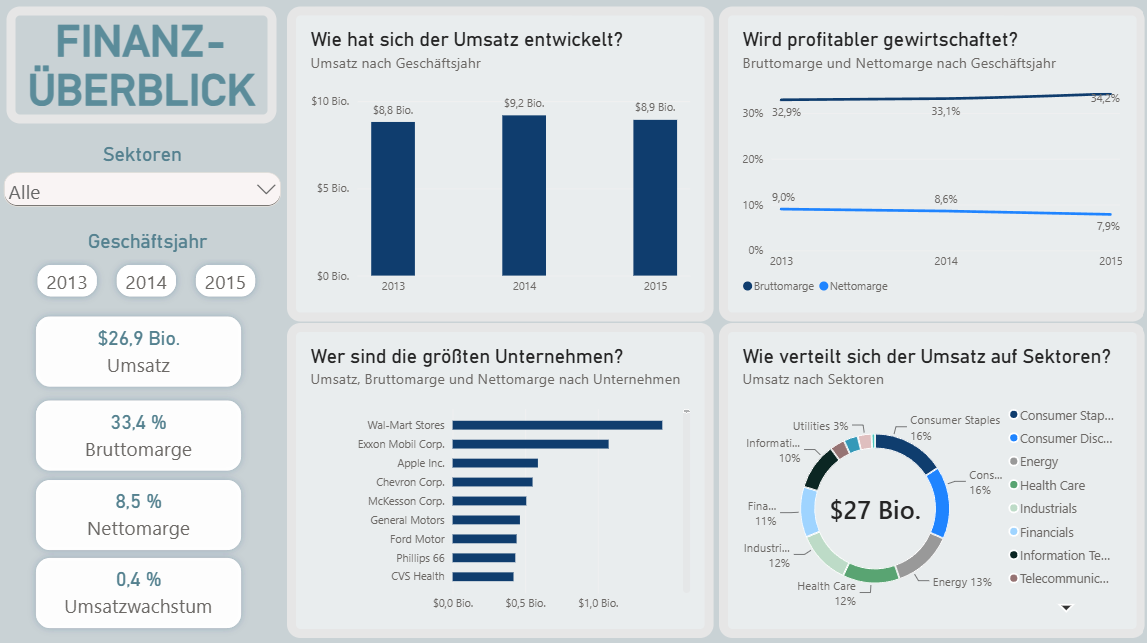

The page's visual inventory and layout, read from the dashboard file:
{"tool":"powerbi","page":{"name":"Überblick","canvas":[1280,720],"ordinal":0},"visuals":[{"type":"advancedSlicerVisual","title":"Geschäftsjahr","fields":{"Values":["fundamentals_enriched.fiscal_year"]},"box":[32,256,266.7,85],"z":0},{"type":"slicer","title":"Sektoren","fields":{"Values":["dim_company.gics_sub_industry"]},"box":[0,160,318.3,76.7],"z":1000},{"type":"cardVisual","fields":{"Data":["fundamentals_enriched.Umsatz"]},"box":[30,341.7,250,100],"z":2000},{"type":"cardVisual","fields":{"Data":["fundamentals_enriched.Bruttomarge"]},"box":[30,435,250,100],"z":3000},{"type":"cardVisual","fields":{"Data":["fundamentals_enriched.Nettomarge"]},"box":[30,523.3,250,100],"z":4000},{"type":"cardVisual","fields":{"Data":["fundamentals_enriched.Umsatzwachstum"]},"box":[30,610,250,100],"z":5000},{"type":"lineChart","title":"Wird profitabler gewirtschaftet?","fields":{"Category":["fundamentals_enriched.fiscal_year"],"Y":["fundamentals_enriched.Bruttomarge","fundamentals_enriched.Nettomarge"]},"box":[800,8,474,350],"z":6000},{"type":"donutChart","title":"Wie verteilt sich der Umsatz auf Sektoren?","fields":{"Category":["dim_company.gics_sector"],"Y":["fundamentals_enriched.Umsatz"]},"box":[800,360,474,350],"z":7000},{"type":"columnChart","title":"Wie hat sich der Umsatz entwickelt?","fields":{"Category":["fundamentals_enriched.fiscal_year"],"Y":["fundamentals_enriched.Umsatz"]},"box":[320,8,474,350],"z":8000},{"type":"clusteredBarChart","title":"Wer sind die größten Unternehmen?","fields":{"Category":["dim_company.company_name"],"Y":["fundamentals_enriched.Umsatz"]},"box":[320,360,474,350],"z":9000},{"type":"textbox","box":[8,8,300,130],"z":10000}]}

Visuals, with their boxes in screenshot pixels (x1, y1, x2, y2), scaled from the page's 1280x720 canvas onto the 1147x643 screenshot:
"Geschäftsjahr" advancedSlicerVisual: 29 229 268 305
"Sektoren" slicer: 0 143 285 211
cardVisual - fundamentals_enriched.Umsatz: 27 305 251 394
cardVisual - fundamentals_enriched.Bruttomarge: 27 388 251 478
cardVisual - fundamentals_enriched.Nettomarge: 27 467 251 557
cardVisual - fundamentals_enriched.Umsatzwachstum: 27 545 251 634
"Wird profitabler gewirtschaftet?" lineChart: 717 7 1142 320
"Wie verteilt sich der Umsatz auf Sektoren?" donutChart: 717 322 1142 634
"Wie hat sich der Umsatz entwickelt?" columnChart: 287 7 711 320
"Wer sind die größten Unternehmen?" clusteredBarChart: 287 322 711 634
textbox: 7 7 276 123
